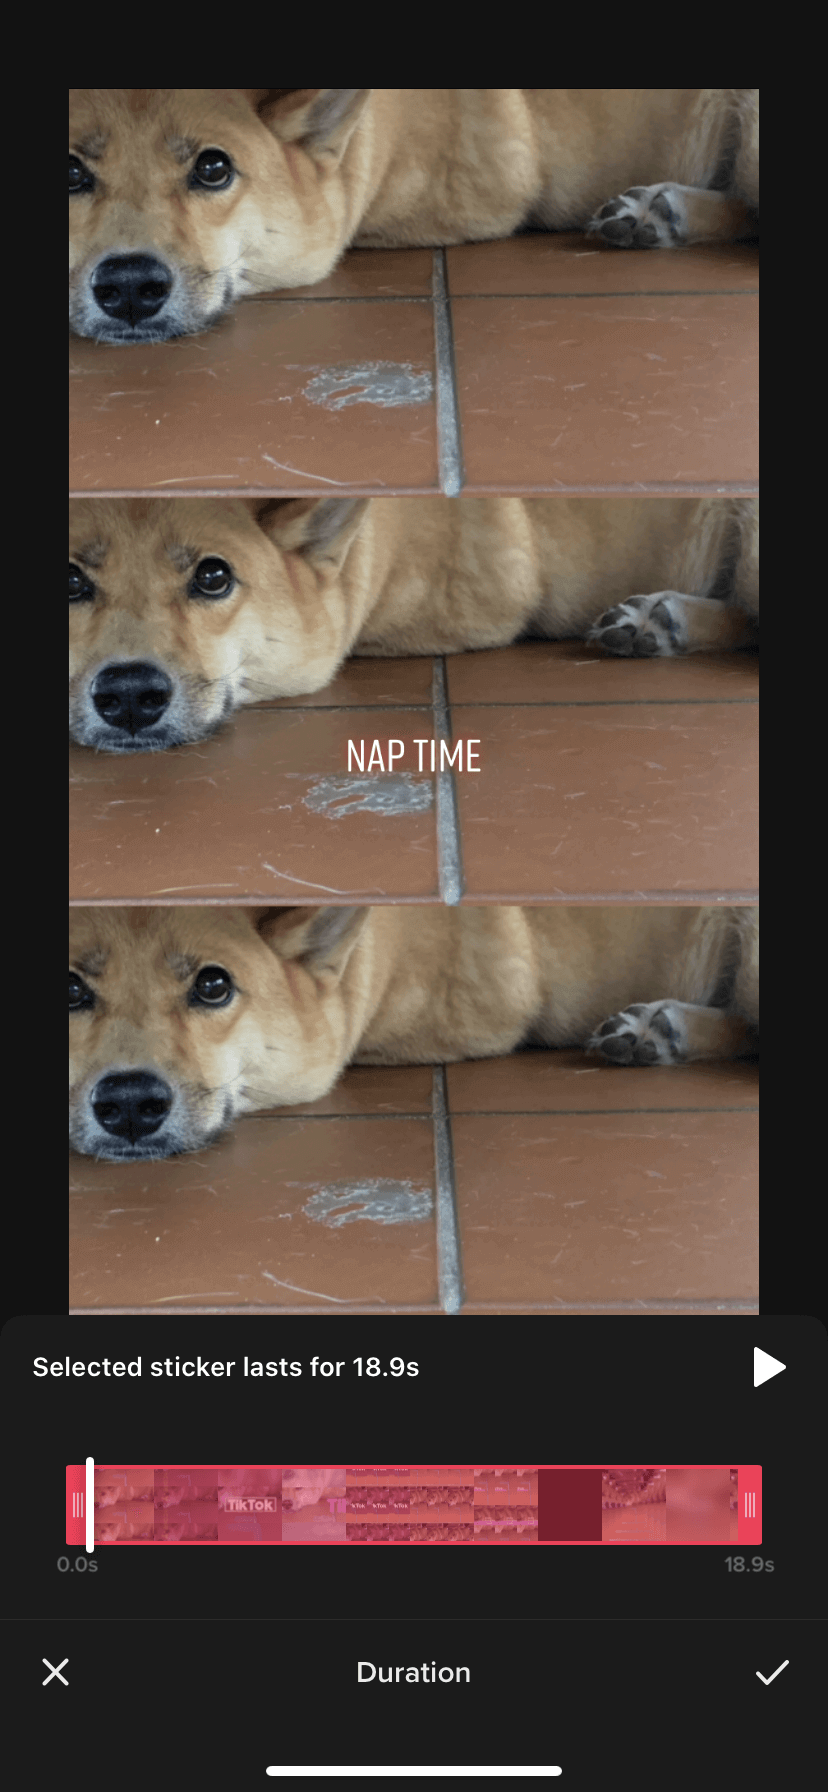Buttons: (715, 1630, 806, 1723), (23, 1625, 103, 1702)
Sliders: (35, 1435, 795, 1584)
